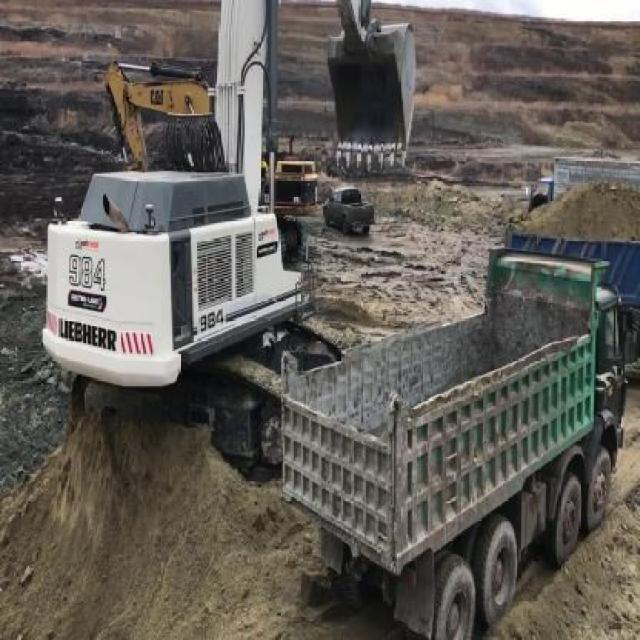dump_truck: (278, 242, 627, 640)
excavator: (31, 0, 418, 469)
